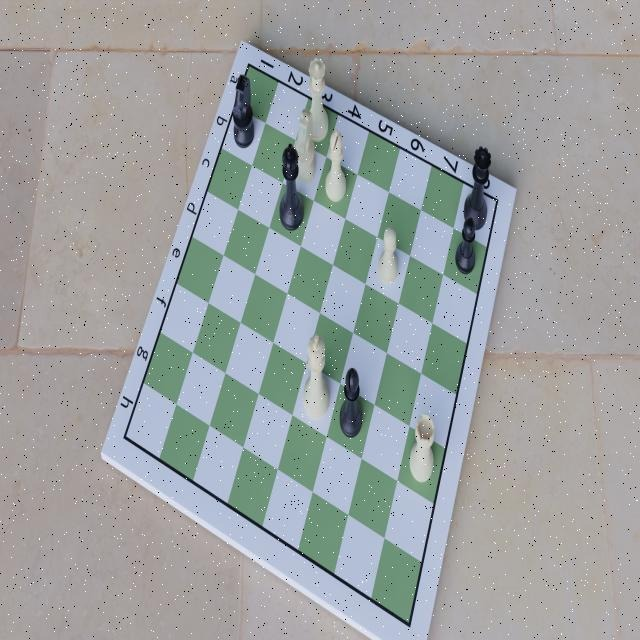black-bishop: (337, 363, 365, 440)
black-king: (276, 138, 305, 233)
black-knight: (231, 72, 256, 152)
black-pawn: (454, 213, 477, 278)
black-queen: (462, 146, 494, 234)
white-bishop: (323, 129, 348, 207)
white-king: (301, 332, 331, 423)
white-knight: (294, 107, 316, 188)
white-pawn: (376, 224, 400, 287)
white-queen: (303, 56, 329, 147)
white-rook: (409, 409, 437, 487)
